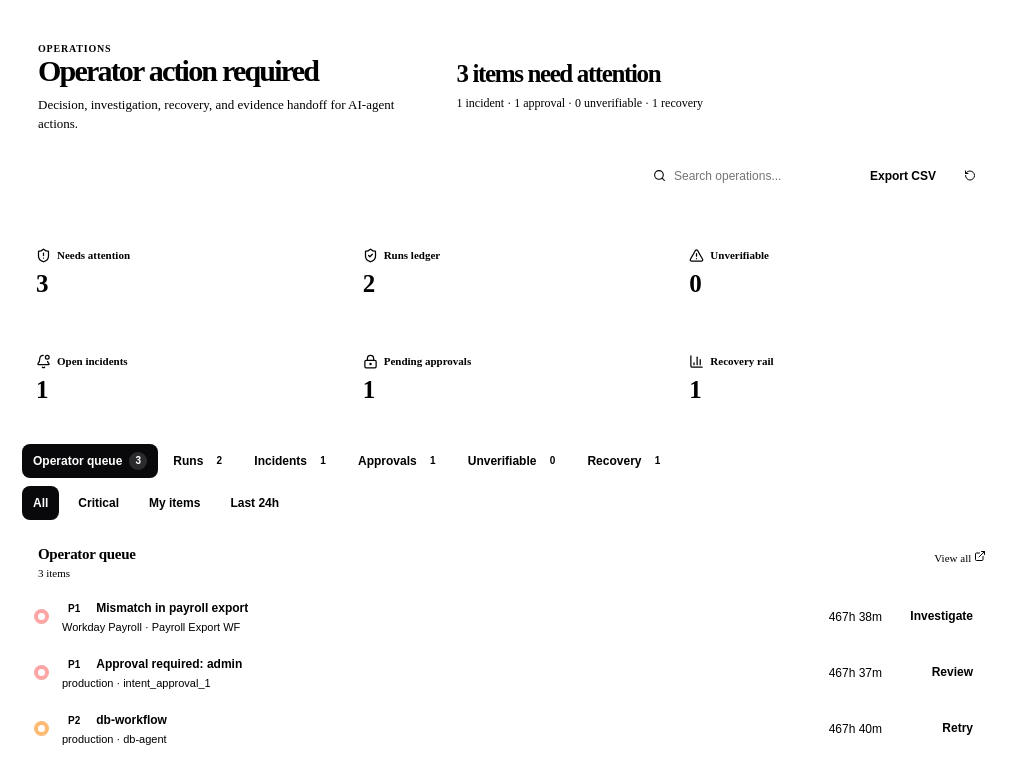
Test: OperationsPage › summarizes and filters runs by agent
Click the button "Runs 2": (201, 461) [162,444,239,478]
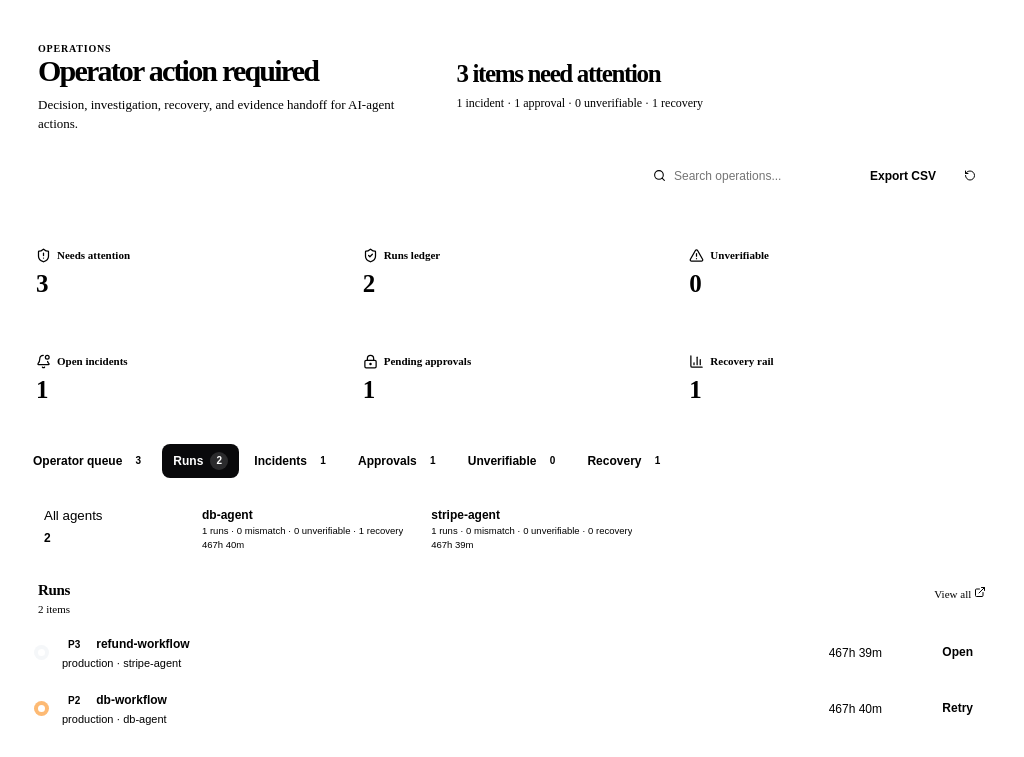
Click the button "stripe-agent": (532, 529) [421,500,642,558]
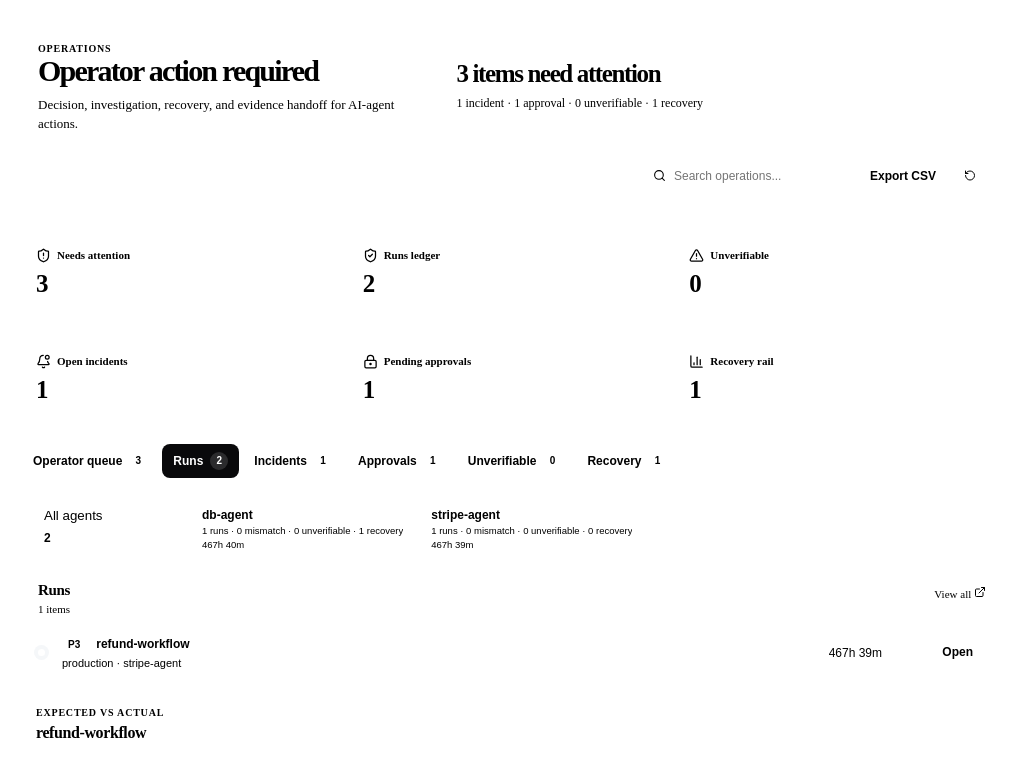
Now the text "refund-workflow" is shown, box [96,637,190,651]
Now the button "db-workflow" is gone
